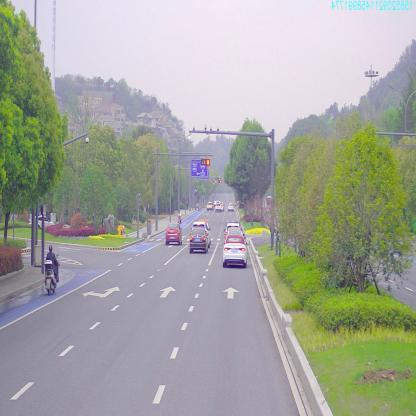traffic-light: (200, 158, 212, 164)
